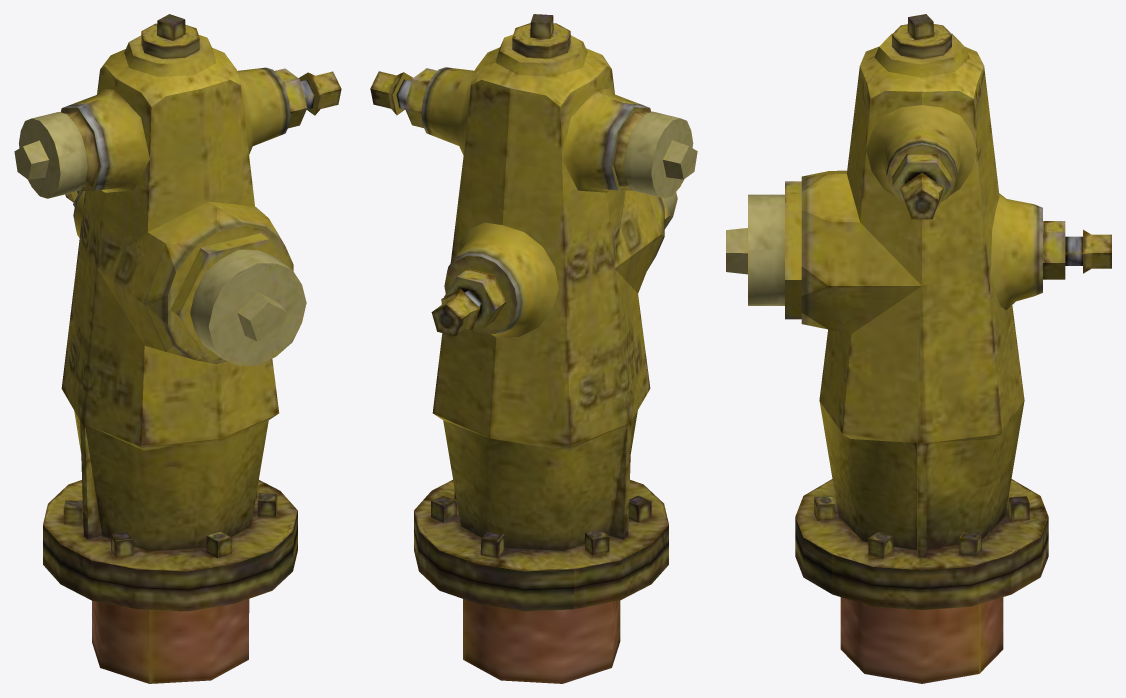
File: hydrant-b.glb
The picture shows the model from 3 angles, left to right: view 1: azimuth 30°, elevation 25°; view 2: azimuth 150°, elevation 25°; view 3: azimuth 270°, elevation 25°; orthographic projection.
Size of the model in its own units: 0.5224 by 1.03 by 0.5635.
2 materials, 2 textured.
